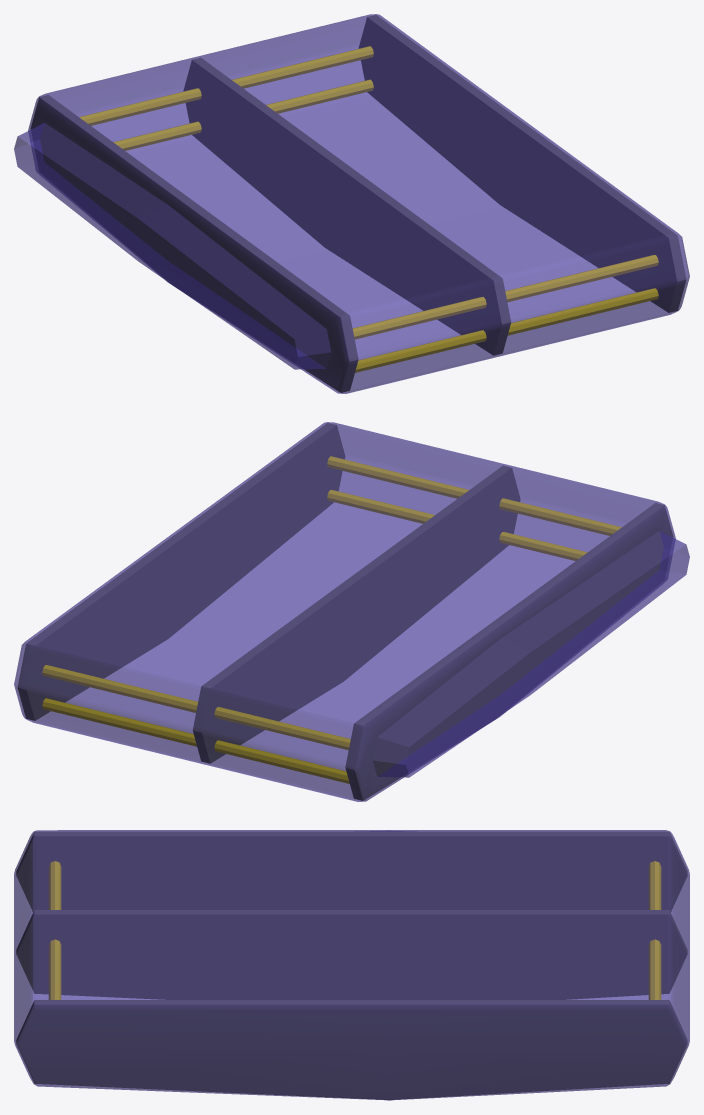
Rendered from pl_glass2units.fbx.
The picture shows the model from 3 angles, top to bottom: view 1: azimuth 30°, elevation 25°; view 2: azimuth 150°, elevation 25°; view 3: azimuth 270°, elevation 25°; orthographic projection. The views are drawn at different scales.
Visible parts, largest first — view 1: group12_polySurface7; view 2: group12_polySurface7; view 3: group12_polySurface7.
Boxes of the visible parts, box(x1,y1,x2,y2) form: group12_polySurface7: box(14, 14, 689, 393); group12_polySurface7: box(14, 422, 689, 801); group12_polySurface7: box(14, 830, 689, 1100).
Bounding box in the file's own units: 201 × 48.29 × 296.
